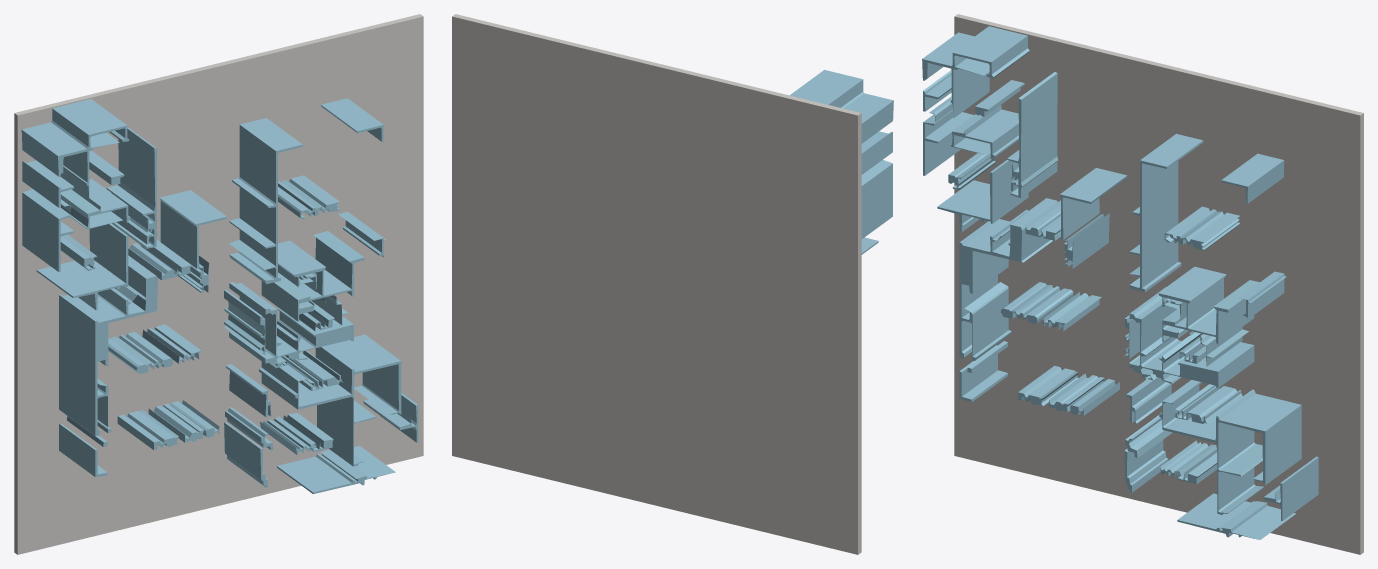
3 views of the same model, side by side, from view 1: azimuth 30°, elevation 25°; view 2: azimuth 150°, elevation 25°; view 3: azimuth 330°, elevation 25° (orthographic).
Visible parts, largest first — view 1: world; view 2: world; view 3: world.
Part boxes in pixels (x1,y1,x2,y2): world: (14, 14, 423, 554); world: (452, 14, 893, 554); world: (922, 14, 1363, 554).
Bounding box in the file's own units: 10.23 × 10.58 × 1.73.
